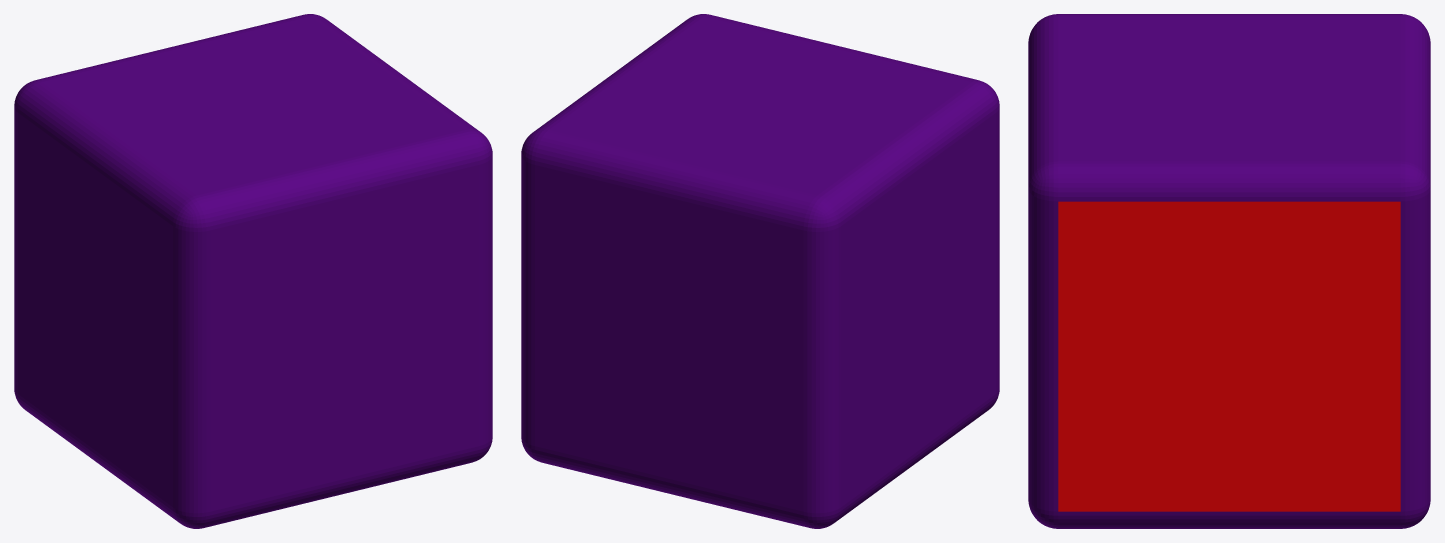
3 views of the same model, side by side, from view 1: azimuth 30°, elevation 25°; view 2: azimuth 150°, elevation 25°; view 3: azimuth 270°, elevation 25° (orthographic). The views are drawn at different scales.
Visible parts, largest first — view 1: Cube; view 2: Cube; view 3: Cube.
Boxes of the visible parts, <box> form: Cube: <box>14,14,492,528</box>; Cube: <box>521,14,999,528</box>; Cube: <box>1028,14,1430,528</box>.
Size of the model in its own units: 200 by 200 by 200.
